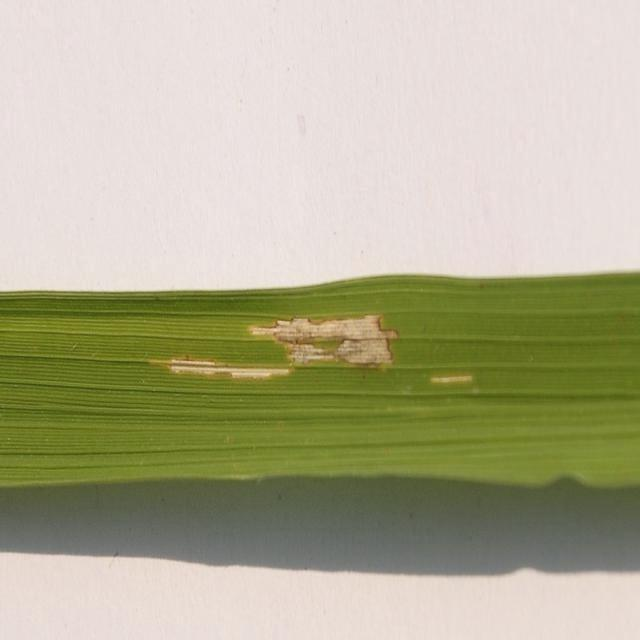bacterial_leaf_blight: (251, 315, 397, 365), (167, 359, 288, 379), (431, 375, 473, 384)
